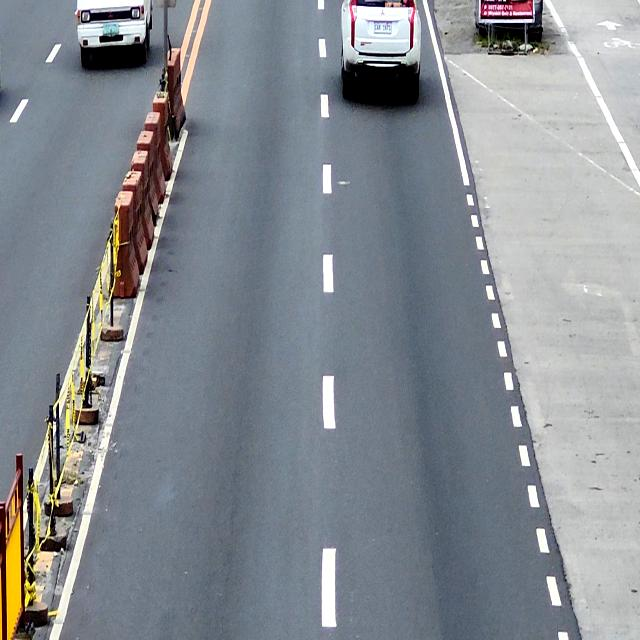Car: (341, 0, 421, 100), (76, 0, 152, 62)
License-Plate: (373, 22, 392, 35), (103, 22, 119, 34)
